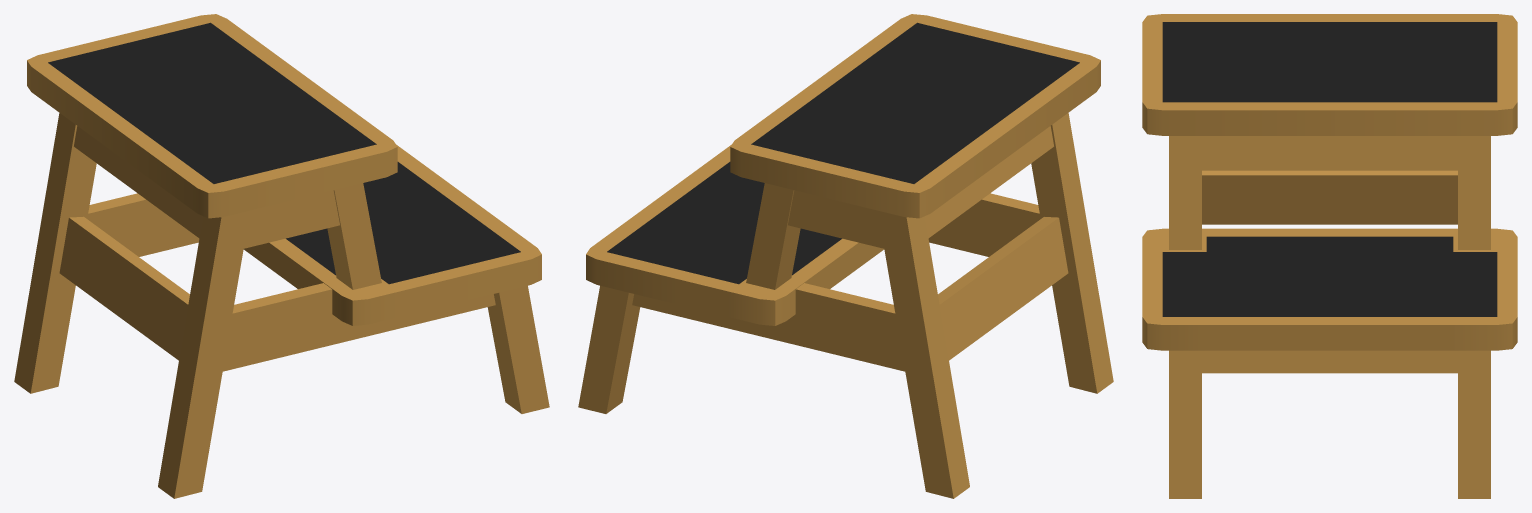
File: Stool.fbx
3 views of the same model, side by side, from view 1: azimuth 30°, elevation 25°; view 2: azimuth 150°, elevation 25°; view 3: azimuth 270°, elevation 25° (orthographic).
Parts seen in each view (by area): view 1: Stool.001; view 2: Stool.001; view 3: Stool.001.
Boxes of the visible parts, x1,y1,x2,y2 form: Stool.001: [14, 14, 549, 498]; Stool.001: [578, 14, 1113, 498]; Stool.001: [1142, 14, 1517, 498].
Bounding box in the file's own units: 383 × 301 × 329.
